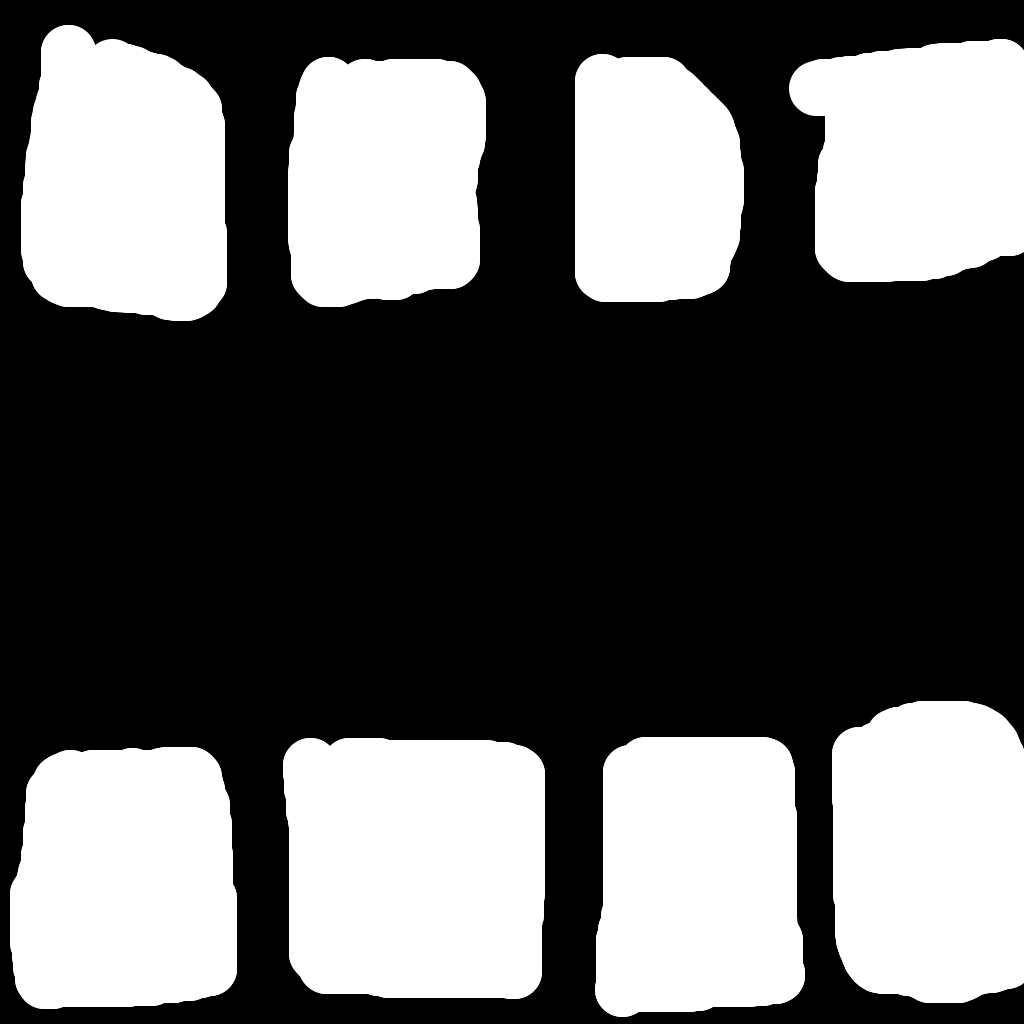halimeda: (138, 239, 160, 265), (922, 203, 933, 214), (72, 876, 83, 887), (928, 139, 938, 150), (897, 179, 908, 188), (714, 879, 721, 892), (621, 209, 631, 218), (385, 236, 394, 245), (399, 844, 407, 854), (876, 102, 884, 111), (350, 839, 356, 851), (381, 220, 391, 227), (338, 831, 345, 841), (855, 163, 866, 169), (104, 895, 112, 903), (402, 221, 409, 230), (879, 874, 886, 882), (656, 850, 664, 856), (94, 860, 99, 869), (645, 226, 648, 240), (938, 180, 942, 190), (866, 236, 872, 242), (853, 206, 859, 212), (926, 112, 932, 118), (627, 151, 635, 155), (60, 931, 64, 939), (637, 209, 643, 214), (618, 230, 623, 236), (351, 868, 356, 874), (891, 141, 898, 145), (655, 213, 659, 218), (331, 854, 335, 859), (632, 231, 636, 235), (362, 849, 367, 852), (85, 939, 89, 942), (702, 835, 705, 839), (900, 847, 903, 851), (907, 890, 910, 894), (645, 880, 647, 885), (674, 944, 678, 946), (669, 902, 675, 903), (874, 812, 875, 817), (921, 821, 923, 823), (878, 837, 879, 840), (942, 841, 943, 844), (689, 863, 691, 864)
